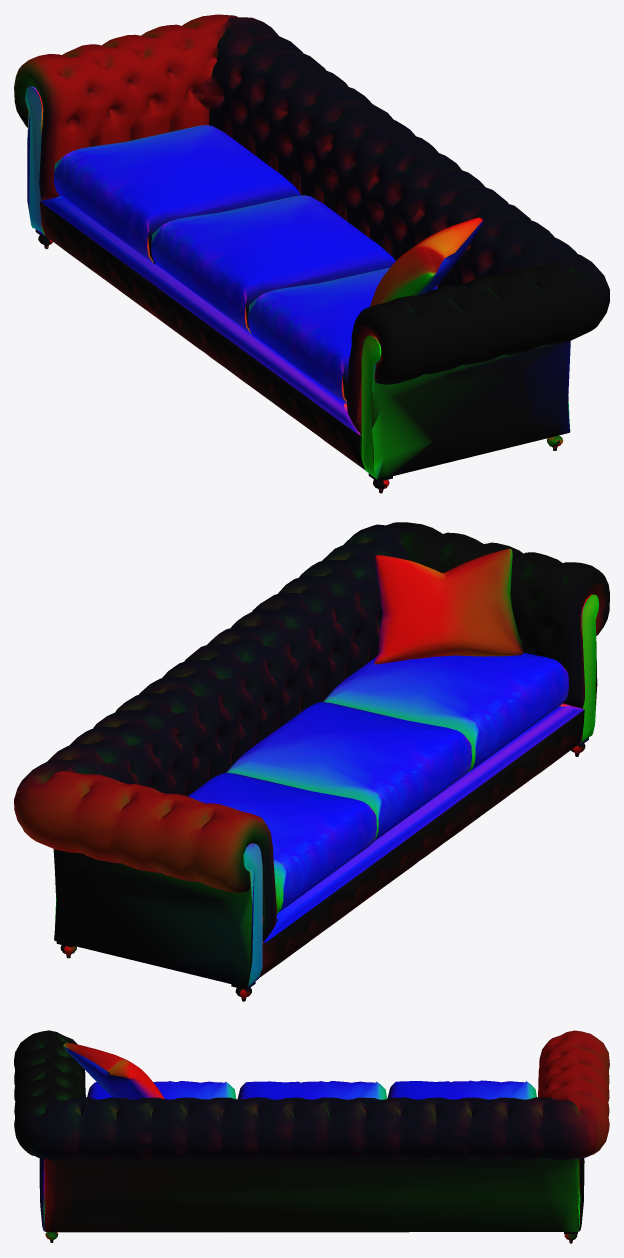
Rendered from sofa-kensington.fbx.
3 renders of one model, top to bottom at view 1: azimuth 30°, elevation 25°; view 2: azimuth 150°, elevation 25°; view 3: azimuth 270°, elevation 25°, orthographic. The views are drawn at different scales.
Visible parts, largest first — view 1: sofa_kensington; view 2: sofa_kensington; view 3: sofa_kensington.
Part boxes in pixels (x1,y1,x2,y2): sofa_kensington: (14,14,609,493); sofa_kensington: (14,522,609,1001); sofa_kensington: (14,1030,609,1243).
Bounding box in the file's own units: 110 × 87.24 × 300.
